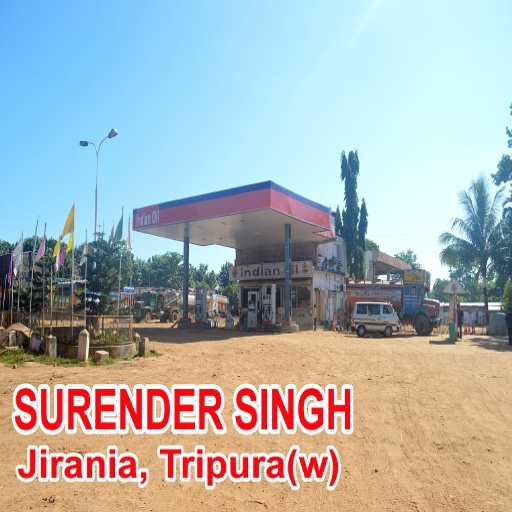roof: (125, 183, 347, 259)
